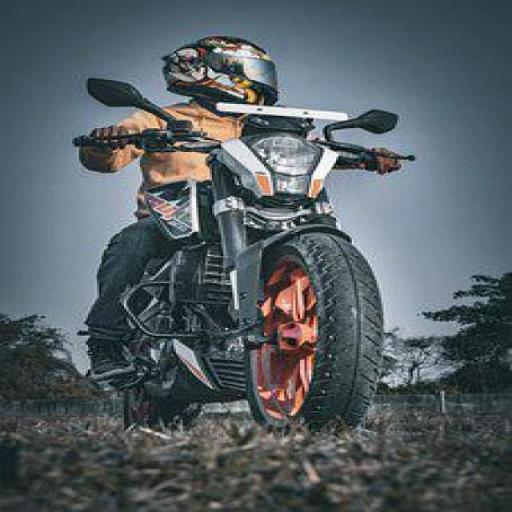Helmet: (164, 36, 277, 104)
Motor: (57, 129, 410, 437)
